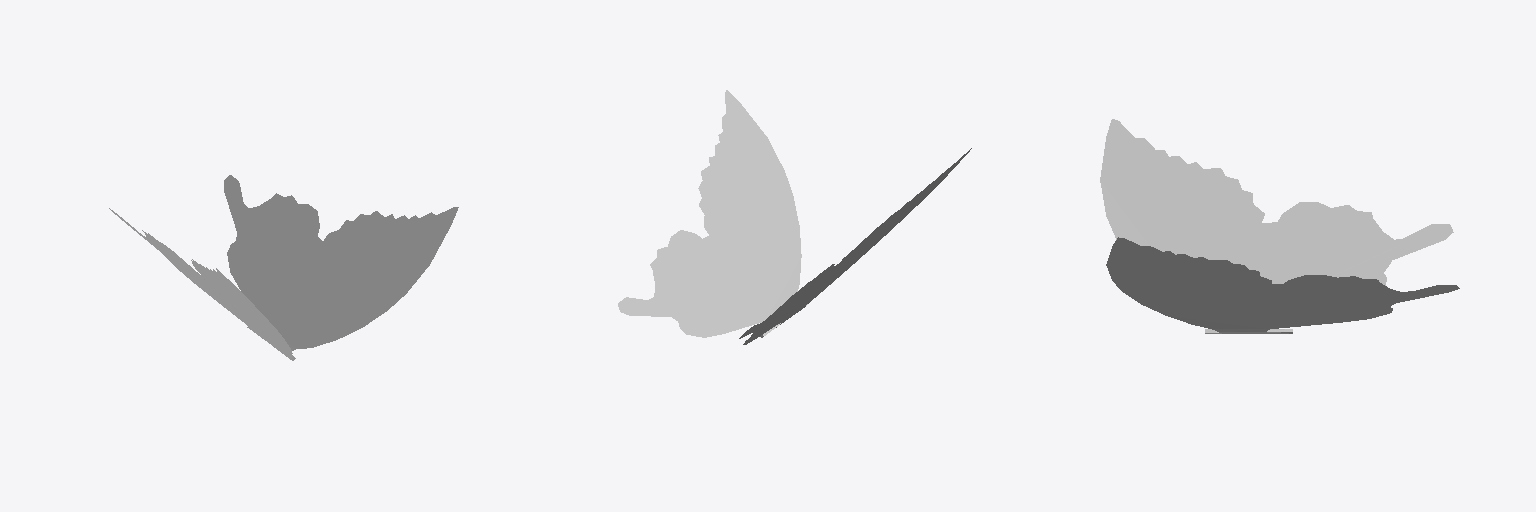
Rendered from mob_27.obj.
3 renders of one model, left to right at view 1: azimuth 30°, elevation 25°; view 2: azimuth 150°, elevation 25°; view 3: azimuth 270°, elevation 25°, orthographic.
Visible parts, largest first — view 1: Cube; view 2: Cube; view 3: Cube.
Boxes of the visible parts, <box> form: Cube: <box>109,175,458,360</box>; Cube: <box>618,90,971,344</box>; Cube: <box>1100,119,1459,333</box>.
Bounding box in the file's own units: 1.53 × 0.9371 × 1.96.